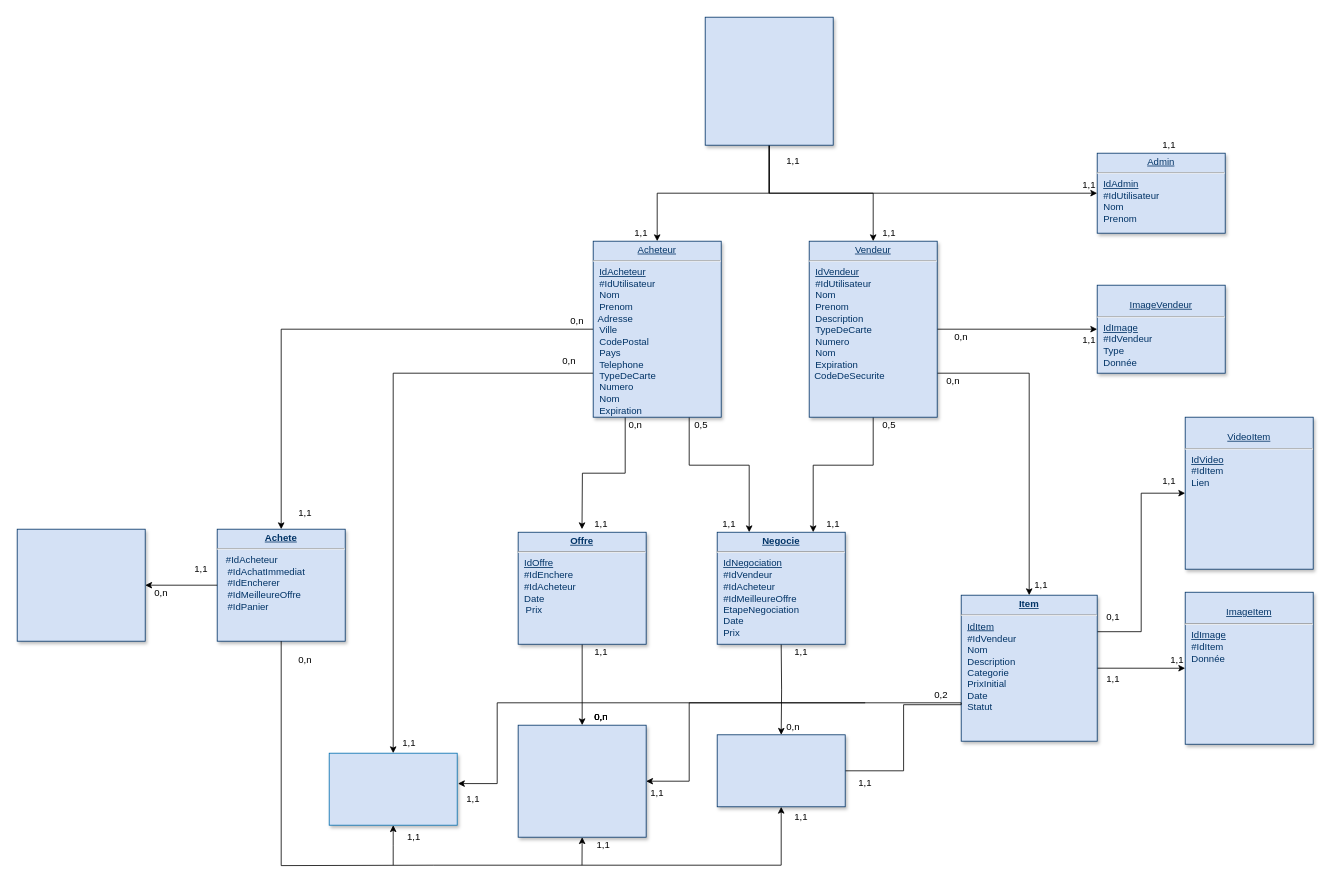
The diagram is 1332 pixels wide and 886 high, and some of its shapes have lost their labels. The shapes that lost their labels are listed below. From the top down, each one's centre as x and y in pixels, then its label:
[769,82]: Utilisateur IdUtilisateur Mail Pseudo Password
[81,586]: Panier IdPanier PrixTotal
[393,790]: Achat Immediat IdAchatImmediat #IdAcheteur #IdItem Date
[582,782]: Enchère IdEnchere #IdItem DateDebut DateFin PrixFinal
[781,771]: MeilleureOffre IdMeilleurOffre #IdItem Date PrixFinal
